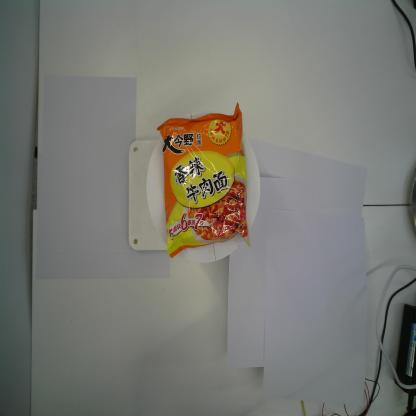Instant Noodles: (157, 102, 251, 259)
